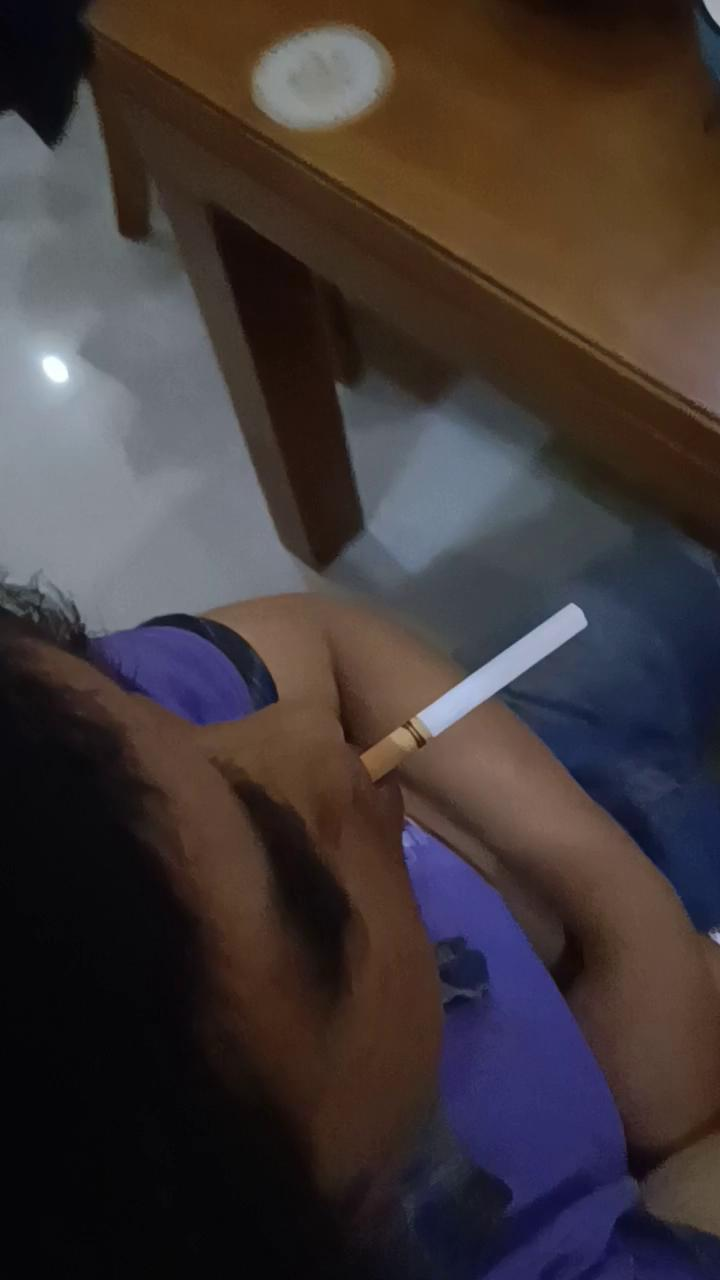smoke: (365, 602, 592, 782)
